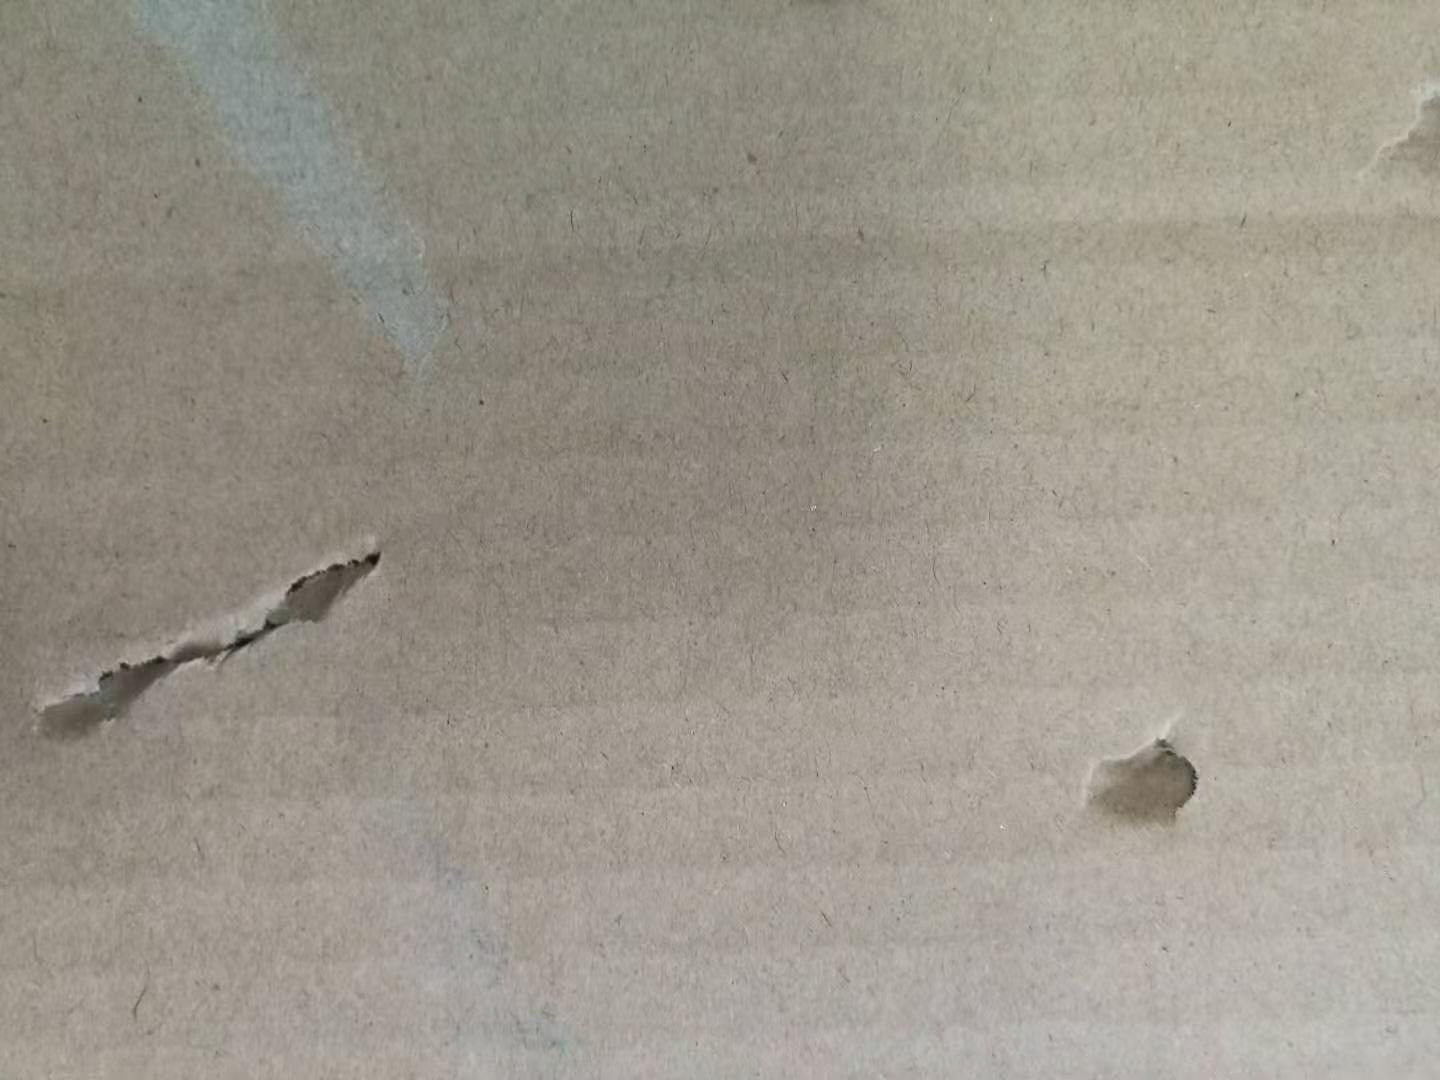defect: (100, 2, 467, 408), (5, 516, 417, 765), (1050, 687, 1243, 859), (1342, 69, 1440, 204)
